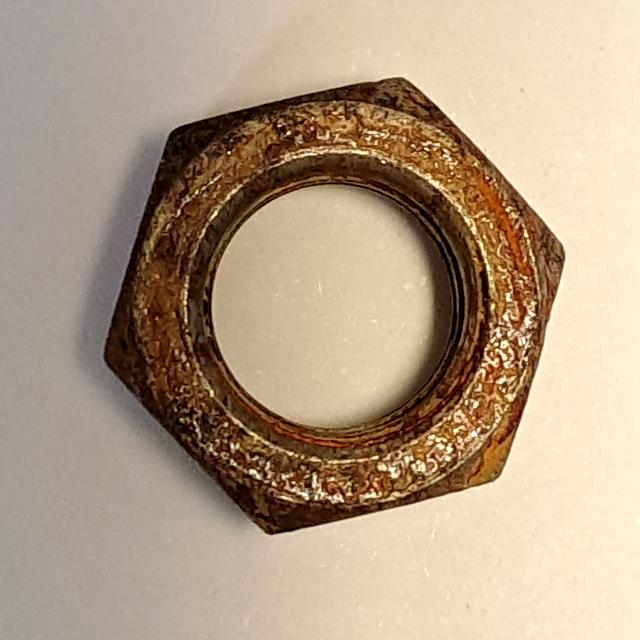Rust: (91, 62, 575, 547)
